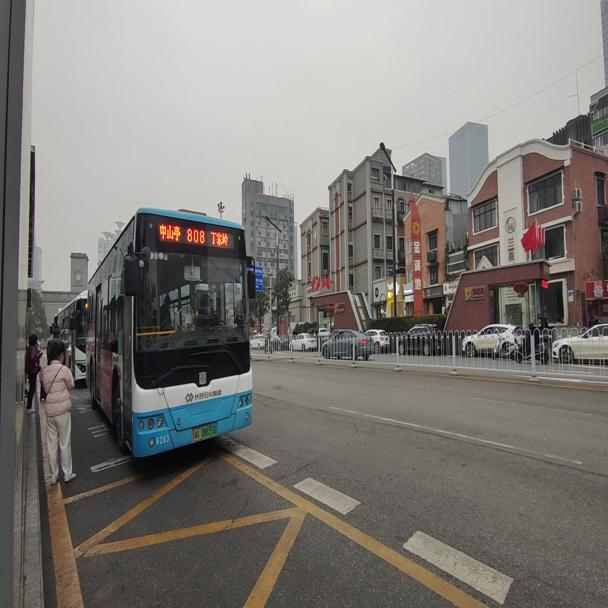bus: (86, 202, 256, 459), (53, 290, 91, 382)
screen: (183, 222, 206, 247)
